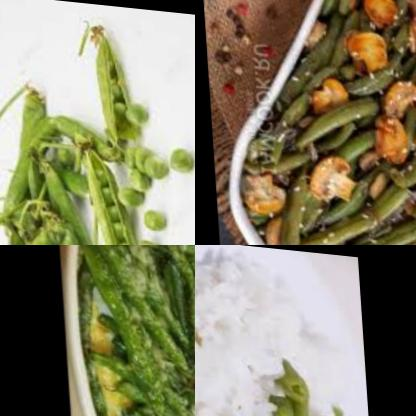fasol: (71, 245, 195, 416), (270, 0, 376, 148), (195, 353, 379, 416), (282, 87, 386, 162), (307, 188, 416, 245), (362, 113, 416, 224), (339, 23, 416, 99), (270, 155, 317, 245)
peas: (0, 73, 116, 245), (82, 20, 151, 141), (75, 139, 140, 245), (115, 142, 168, 245), (157, 118, 195, 184)
